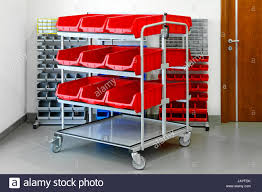Carts: (50, 13, 192, 170)
